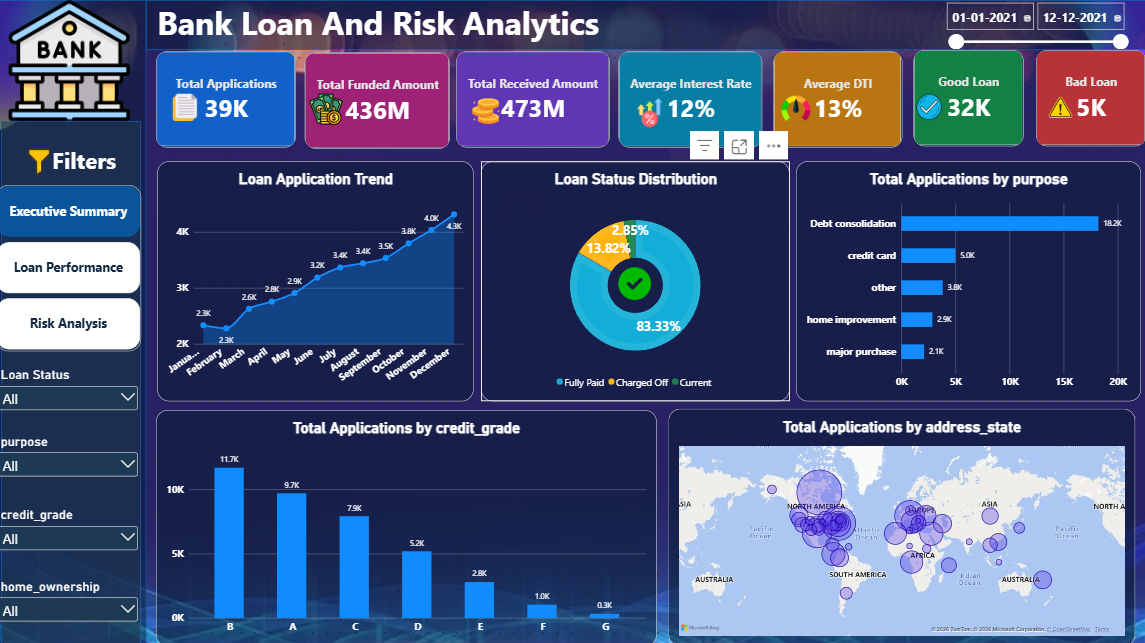

Layout of this report page (visuals, bound fields, positions):
{"tool":"powerbi","page":{"name":"Executive Summary","canvas":[1920,1080],"ordinal":0},"visuals":[{"type":"cardVisual","fields":{"Data":["Bank_Loan.Total Applications"]},"box":[267.1,85.6,233.7,160.7],"z":0},{"type":"cardVisual","fields":{"Data":["Bank_Loan.Average Interest Rate"]},"box":[1039.3,85.6,240,160.7],"z":1000},{"type":"cardVisual","fields":{"Data":["Bank_Loan.Total Received Amount"]},"box":[768,85.6,256.7,160.7],"z":2000},{"type":"cardVisual","fields":{"Data":["Bank_Loan.Total Funded Amount"]},"box":[515.5,87.7,242.1,160.7],"z":3000},{"type":"cardVisual","fields":{"Data":["Bank_Loan.Good Loan Applications"]},"box":[1531.8,83.5,183.7,160.7],"z":4000},{"type":"cardVisual","fields":{"Data":["Bank_Loan.Average DTI"]},"box":[1298.1,85.6,215,160.7],"z":5000},{"type":"cardVisual","fields":{"Data":["Bank_Loan.Bad Loan Applications"]},"box":[1736.3,83.5,183.7,160.7],"z":6000},{"type":"lineChart","title":"Loan Application Trend ","fields":{"Category":["Bank_Loan.issue_date.Variation.Date Hierarchy.Month"],"Y":["Bank_Loan.Total Applications"]},"box":[268.4,268.4,528,400.7],"z":7000},{"type":"donutChart","title":"Loan Status Distribution","fields":{"Category":["Bank_Loan.loan_status"],"Y":["Bank_Loan.Total Applications"]},"box":[809.5,268.4,515.5,400.7],"z":8000},{"type":"clusteredBarChart","fields":{"Category":["Bank_Loan.purpose"],"Y":["Bank_Loan.Total Applications"]},"box":[1335.3,268.4,576,400.7],"z":9000},{"type":"map","fields":{"Category":["Bank_Loan.address_state"],"Size":["Bank_Loan.Total Applications"]},"box":[1123.6,682.9,778.9,397.1],"z":10000},{"type":"columnChart","fields":{"Category":["Bank_Loan.credit_grade"],"Y":["Bank_Loan.Total Applications"]},"box":[266.2,685.1,835.6,394.9],"z":11000},{"type":"shape","box":[0,0,250.9,1080],"z":12000},{"type":"shape","box":[250.9,0,1669.1,82.9],"z":13000},{"type":"shape","box":[8.7,202.9,233.5,877.1],"z":14000},{"type":"textbox","box":[268.4,0,938.2,80.7],"z":15000},{"type":"slicer","fields":{"Values":["Bank_Loan.issue_date"]},"box":[1579.6,0,314.2,80.7],"z":16000},{"type":"slicer","fields":{"Values":["Bank_Loan.loan_status"]},"box":[0,613.6,242.2,82.9],"z":17000},{"type":"slicer","fields":{"Values":["Bank_Loan.purpose"]},"box":[0,724.2,242.2,122.2],"z":18000},{"type":"slicer","fields":{"Values":["Bank_Loan.credit_grade"]},"box":[0,847.3,242.1,119],"z":19000},{"type":"slicer","fields":{"Values":["Bank_Loan.home_ownership"]},"box":[0,966.3,242.1,96],"z":20000},{"type":"pageNavigator","box":[0,308.9,242.1,277.6],"z":21000},{"type":"image","box":[8.3,0,227.5,202.4],"z":22000},{"type":"textbox","box":[93.9,242.1,123.1,50.1],"z":23000},{"type":"image","box":[18.8,244.2,106.4,52.2],"z":24000},{"type":"image","box":[269.2,156.5,91.8,45.9],"z":25000},{"type":"image","box":[515.5,154.4,71,56.3],"z":26000},{"type":"image","box":[768,162.8,100.2,45.9],"z":27000},{"type":"image","box":[1035.1,162.8,112.7,50.1],"z":28000},{"type":"image","box":[1304.3,156.5,62.6,48],"z":29000},{"type":"image","box":[1513,156.5,89.7,43.8],"z":30000},{"type":"image","box":[1757.2,148.2,39.7,62.6],"z":31000},{"type":"image","box":[1035.1,421.6,62.6,104.3],"z":32000}]}

Visuals, with their boxes on the page's 1920x1080 design canvas (x1, y1, x2, y2). These are canvas units, not pixel positions in the 1145x643 screenshot, which may show the page scaled, cropped or inside an application window:
cardVisual - Bank_Loan.Total Applications: 267 86 501 246
cardVisual - Bank_Loan.Average Interest Rate: 1039 86 1279 246
cardVisual - Bank_Loan.Total Received Amount: 768 86 1025 246
cardVisual - Bank_Loan.Total Funded Amount: 516 88 758 248
cardVisual - Bank_Loan.Good Loan Applications: 1532 84 1716 244
cardVisual - Bank_Loan.Average DTI: 1298 86 1513 246
cardVisual - Bank_Loan.Bad Loan Applications: 1736 84 1920 244
"Loan Application Trend " lineChart: 268 268 796 669
"Loan Status Distribution" donutChart: 810 268 1325 669
clusteredBarChart - Bank_Loan.purpose x Bank_Loan.Total Applications: 1335 268 1911 669
map - Bank_Loan.address_state x Bank_Loan.Total Applications: 1124 683 1902 1080
columnChart - Bank_Loan.credit_grade x Bank_Loan.Total Applications: 266 685 1102 1080
shape: 0 0 251 1080
shape: 251 0 1920 83
shape: 9 203 242 1080
textbox: 268 0 1207 81
slicer - Bank_Loan.issue_date: 1580 0 1894 81
slicer - Bank_Loan.loan_status: 0 614 242 696
slicer - Bank_Loan.purpose: 0 724 242 846
slicer - Bank_Loan.credit_grade: 0 847 242 966
slicer - Bank_Loan.home_ownership: 0 966 242 1062
pageNavigator: 0 309 242 586
image: 8 0 236 202
textbox: 94 242 217 292
image: 19 244 125 296
image: 269 156 361 202
image: 516 154 586 211
image: 768 163 868 209
image: 1035 163 1148 213
image: 1304 156 1367 204
image: 1513 156 1603 200
image: 1757 148 1797 211
image: 1035 422 1098 526
